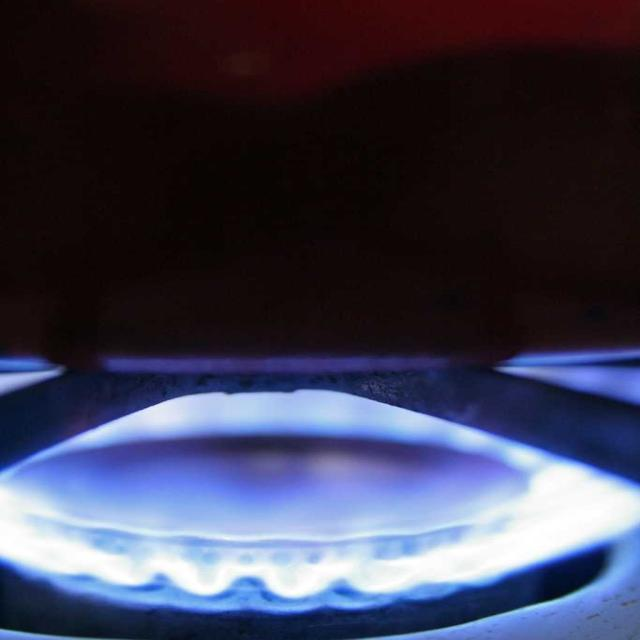Fire: (1, 458, 639, 638), (122, 413, 500, 454)
